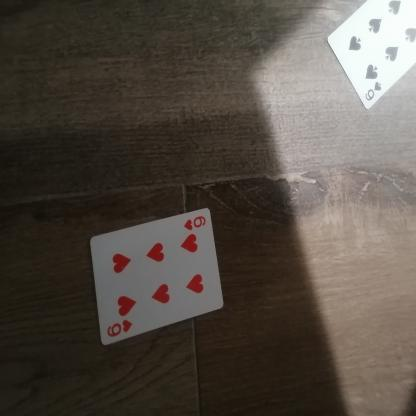6H: (103, 316, 139, 340), (180, 210, 209, 235)
